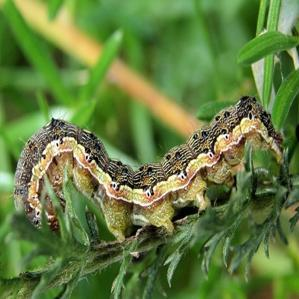Cotton bollworm: (11, 87, 296, 240)
